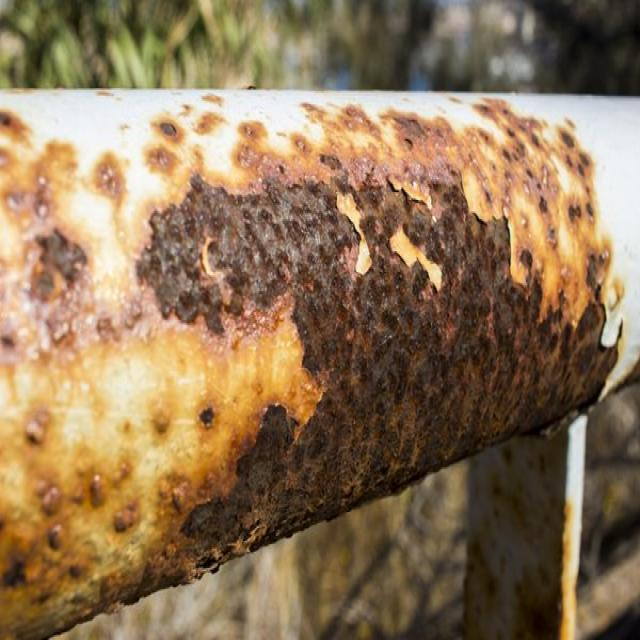damaged_tower: (2, 127, 618, 496)
